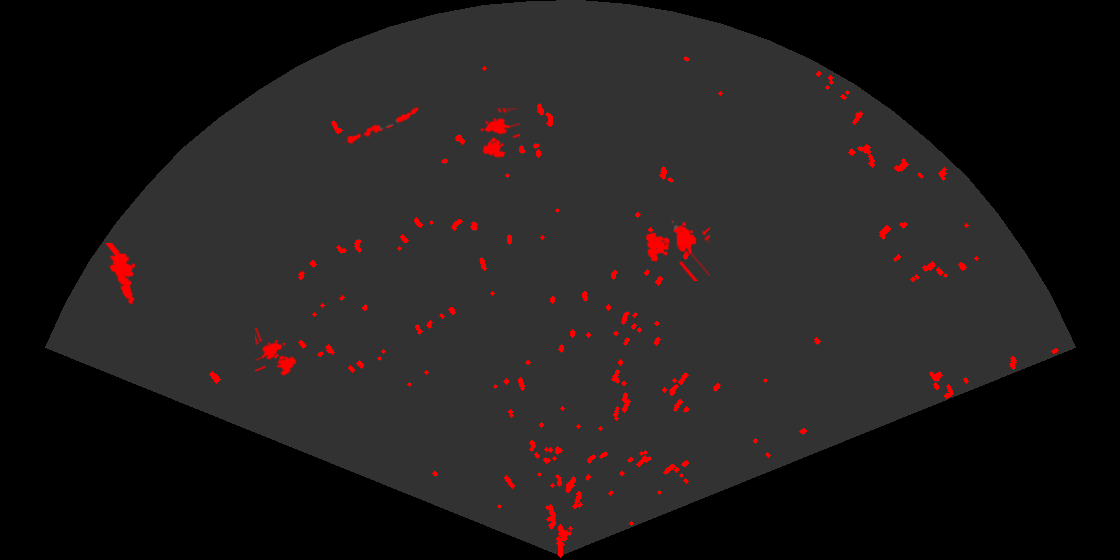cage: (644, 219, 710, 281), (255, 328, 298, 378), (478, 108, 520, 159)
chain: (342, 106, 421, 146)
frogman: (104, 243, 137, 306)
